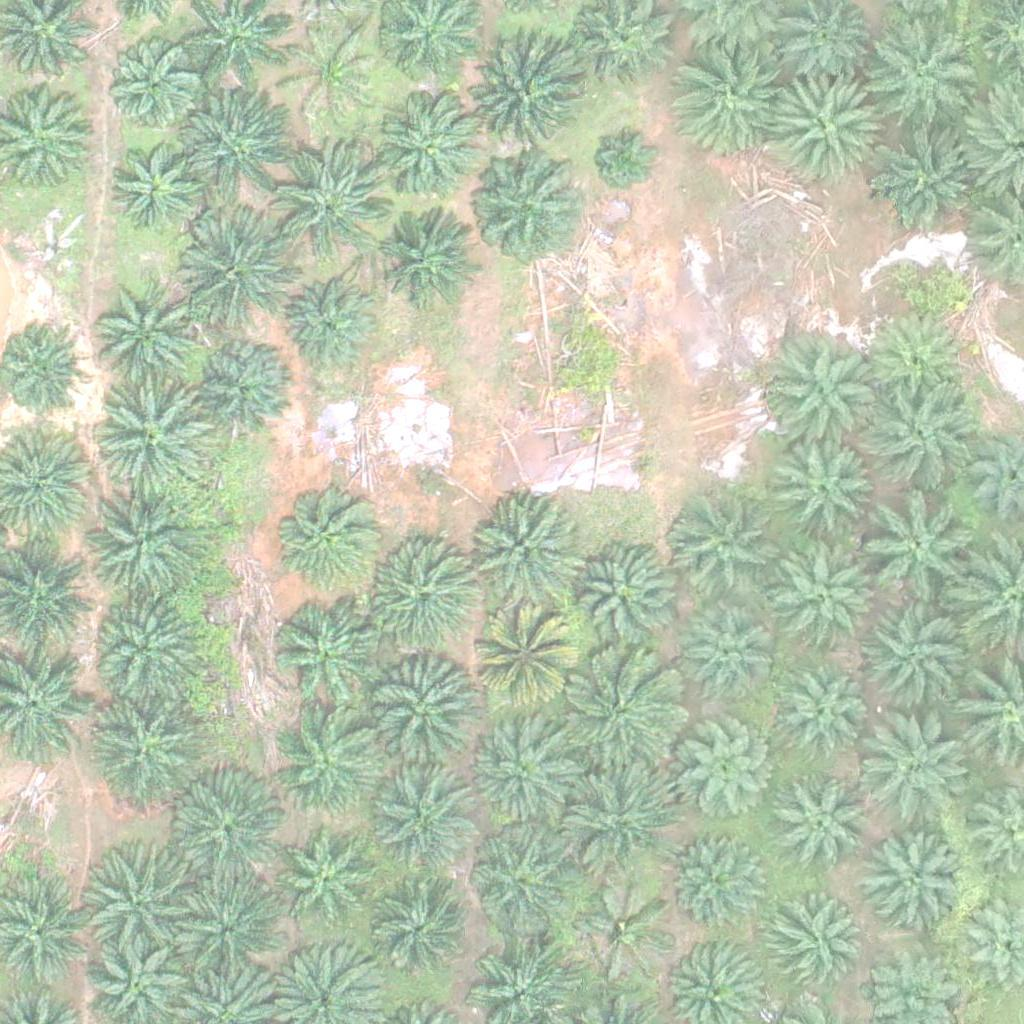Kelapa_Sawit: (93, 587, 206, 701), (181, 215, 294, 329), (84, 492, 197, 606), (859, 600, 972, 713), (561, 765, 674, 878), (565, 653, 678, 766), (368, 660, 481, 773), (270, 602, 383, 715), (860, 6, 973, 119), (873, 123, 986, 236), (767, 70, 880, 183), (664, 44, 777, 157), (862, 496, 975, 609), (767, 339, 880, 452), (564, 541, 677, 654), (468, 40, 581, 153), (182, 89, 295, 202), (858, 717, 970, 831), (273, 707, 385, 821), (376, 90, 488, 204), (271, 479, 383, 593), (174, 782, 286, 895), (85, 690, 197, 803), (85, 838, 197, 951), (868, 379, 980, 492), (770, 529, 882, 642), (664, 492, 776, 605), (467, 498, 579, 611), (357, 542, 469, 655), (470, 156, 582, 269), (274, 145, 386, 258), (95, 269, 207, 382), (99, 383, 211, 496), (865, 833, 965, 934), (770, 775, 870, 876), (762, 895, 862, 996), (668, 830, 768, 931), (466, 719, 566, 820), (468, 831, 568, 932), (374, 776, 474, 877), (275, 831, 375, 932), (867, 309, 967, 410), (775, 443, 875, 544), (284, 18, 384, 119), (191, 336, 291, 437), (101, 36, 201, 137), (105, 132, 205, 233), (671, 725, 771, 825), (577, 881, 677, 981), (472, 613, 572, 713), (366, 890, 466, 990), (177, 879, 277, 979), (377, 209, 477, 309), (280, 282, 380, 382), (782, 670, 869, 758), (684, 615, 771, 703), (588, 119, 663, 194)
